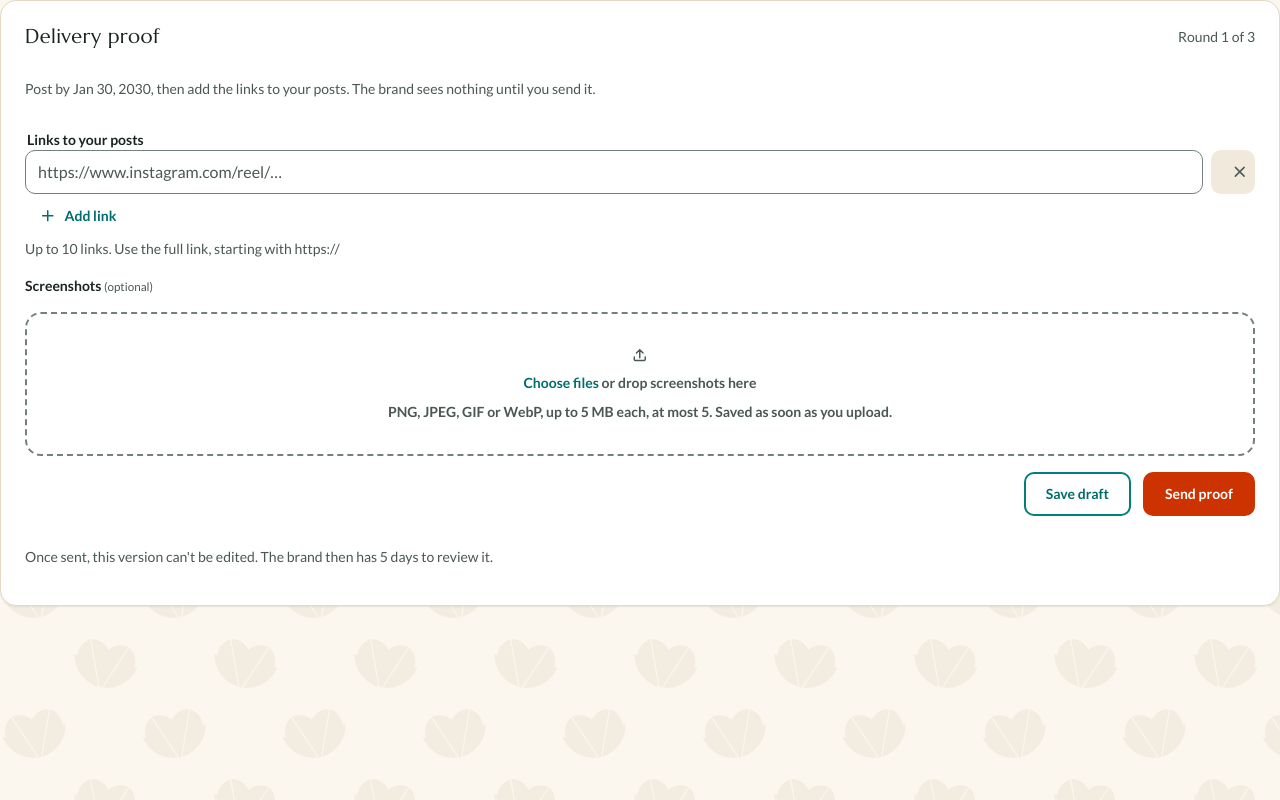
Test: saves the links on screen as a draft
The width and height of the screenshot is (1280, 800).
In the field named "Link 1": (614, 172) [25,150,1203,194], type " https://example.com/post "
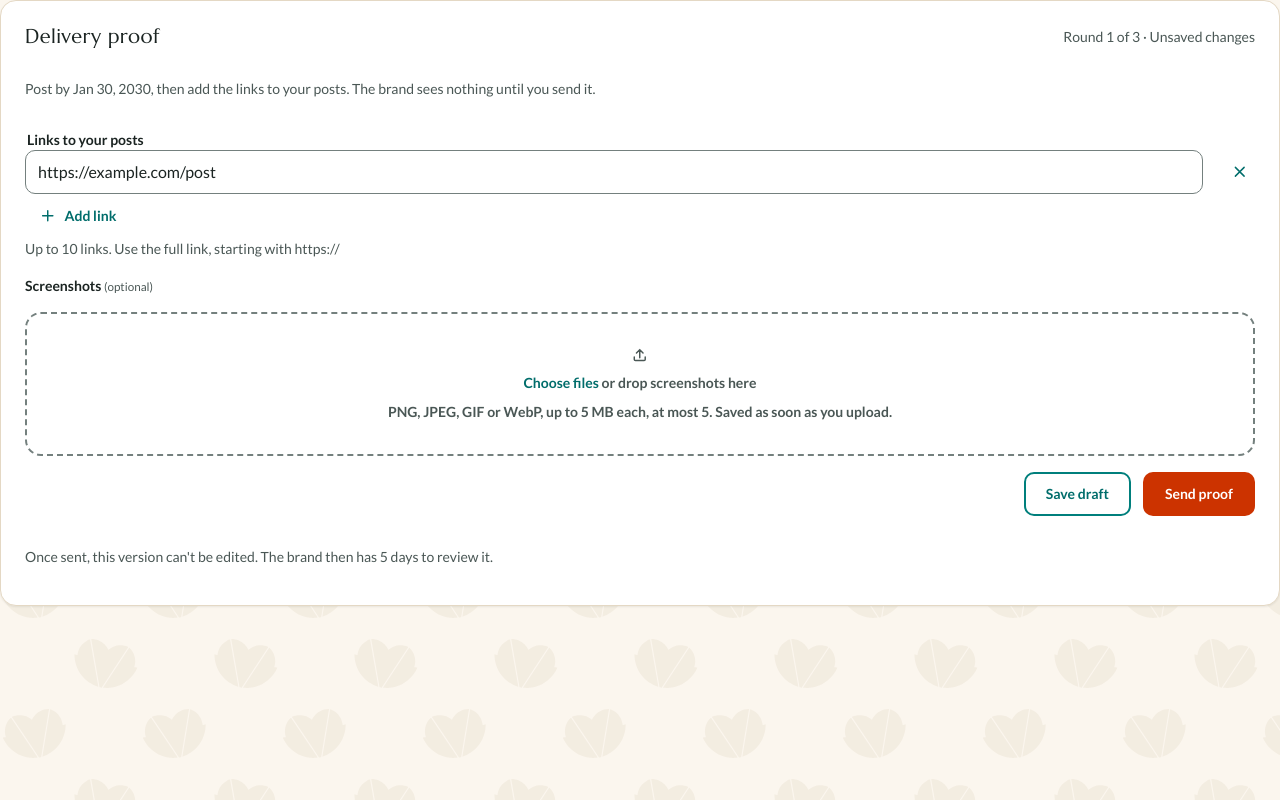
Expected: the text "Round 1 of 3 · Unsaved changes" is shown, [1063,26,1255,47]
Click the button "Save draft": (1077, 494) [1024,472,1131,516]
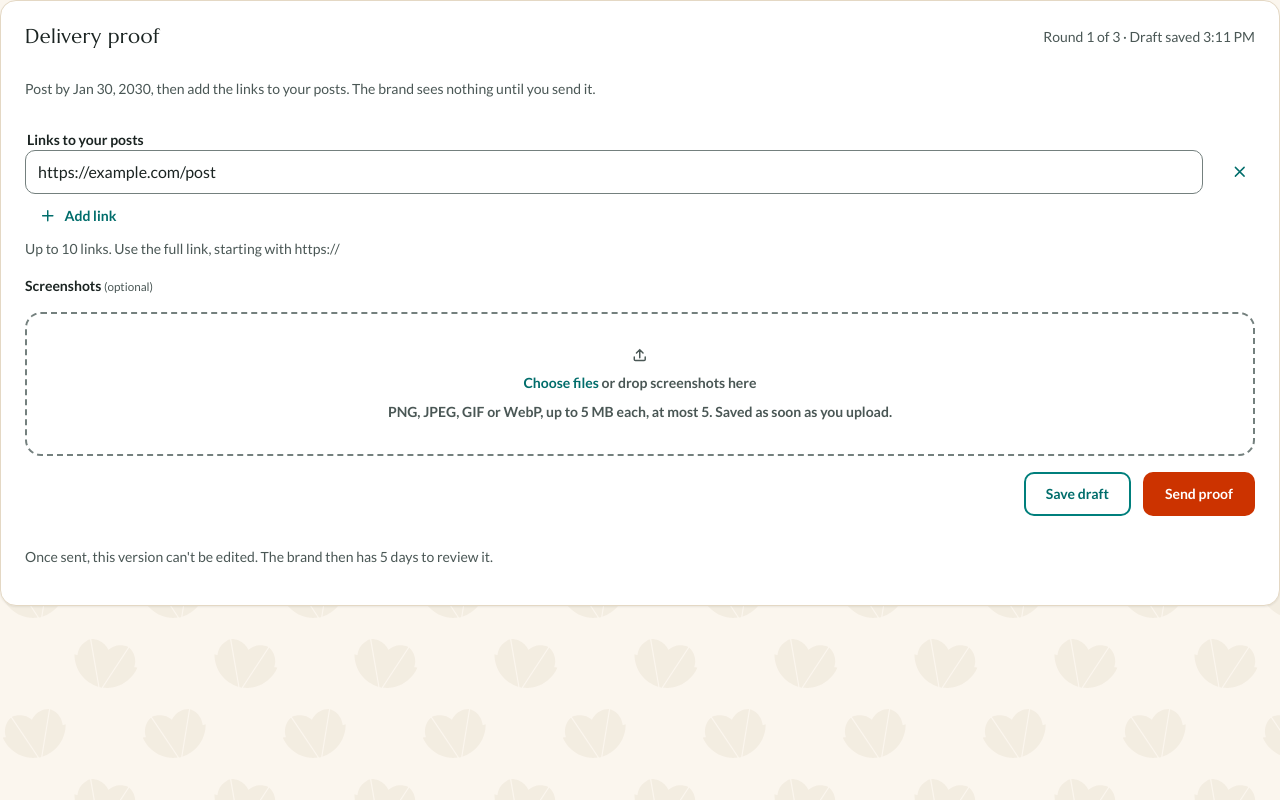
Expected: the text "Round 1 of 3 · Draft saved 3:11 PM" is shown, [1043,26,1255,47]
